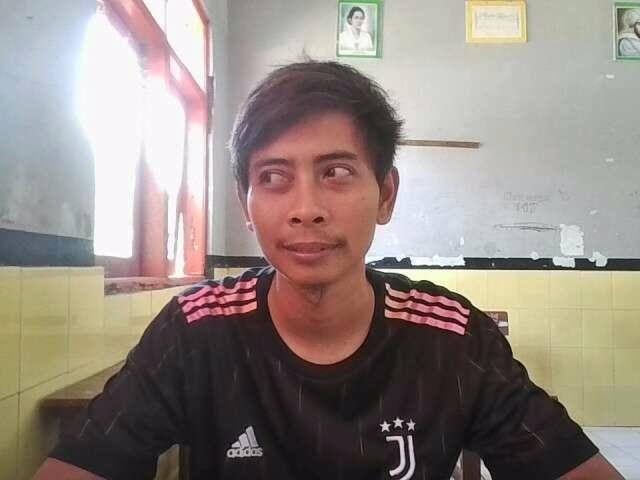cheating: (212, 53, 430, 323)
